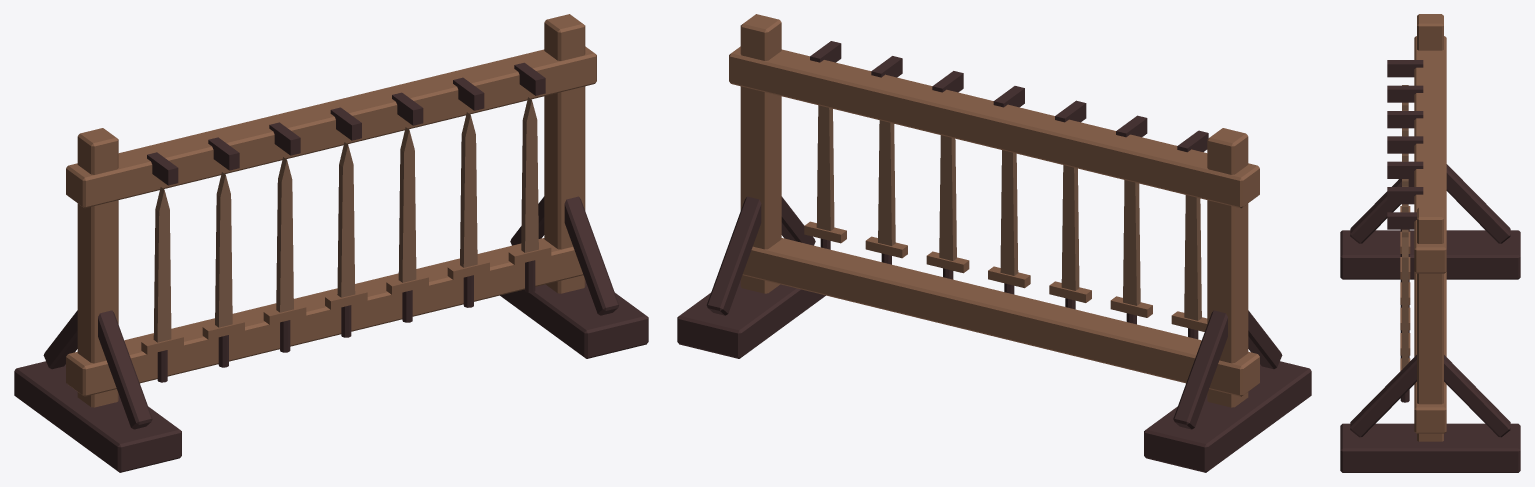
File: sword_rack.glb
The picture shows the model from 3 angles, left to right: view 1: azimuth 30°, elevation 25°; view 2: azimuth 150°, elevation 25°; view 3: azimuth 270°, elevation 25°; orthographic projection. The views are drawn at different scales.
Visible parts, largest first — view 1: sword_rack_Cedar, sword_rack_Timber, sword_rack_Floor; view 2: sword_rack_Cedar, sword_rack_Timber, sword_rack_Floor; view 3: sword_rack_Timber, sword_rack_Cedar, sword_rack_Floor.
Part boxes in pixels (x1,y1,x2,y2): sword_rack_Cedar: [66, 14, 596, 407]; sword_rack_Timber: [14, 62, 648, 472]; sword_rack_Floor: [153, 97, 538, 342]; sword_rack_Cedar: [729, 14, 1259, 407]; sword_rack_Timber: [677, 41, 1311, 472]; sword_rack_Floor: [816, 105, 1201, 320]; sword_rack_Timber: [1340, 60, 1520, 472]; sword_rack_Cedar: [1400, 14, 1446, 441]; sword_rack_Floor: [1402, 85, 1408, 368].
Bounding box in the file's own units: 2.89 × 1.52 × 1.
